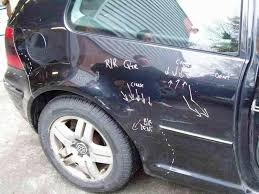Dent: (25, 28, 120, 94)
Scratch: (163, 59, 210, 117), (121, 82, 154, 109), (160, 131, 175, 178), (160, 118, 193, 127)
